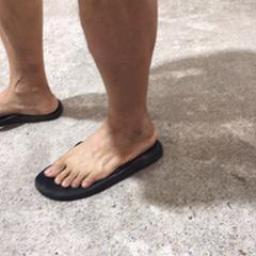Lateral View -Left Foot-: (42, 110, 164, 192)
